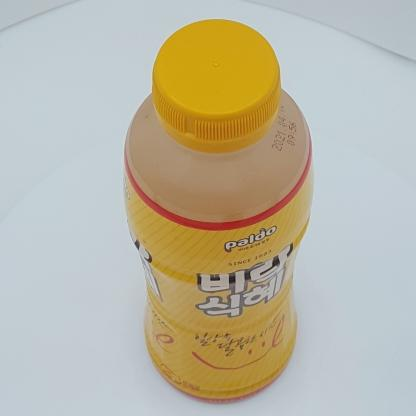------500ML: (122, 19, 314, 405)
